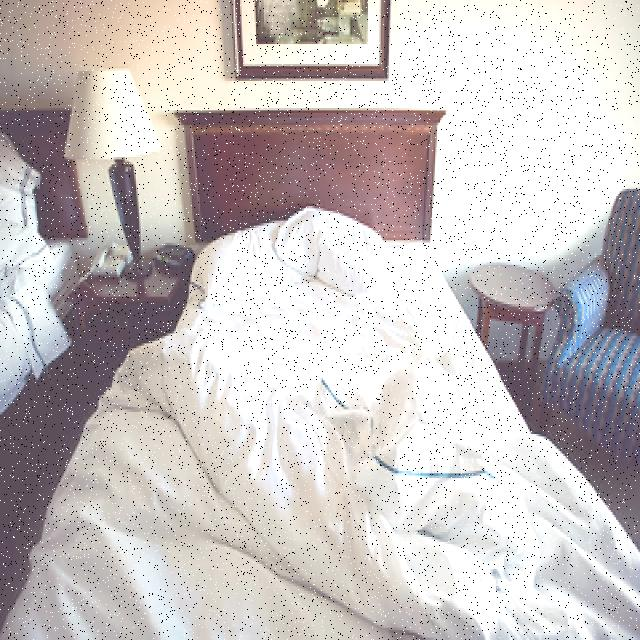bed: (83, 204, 566, 634)
